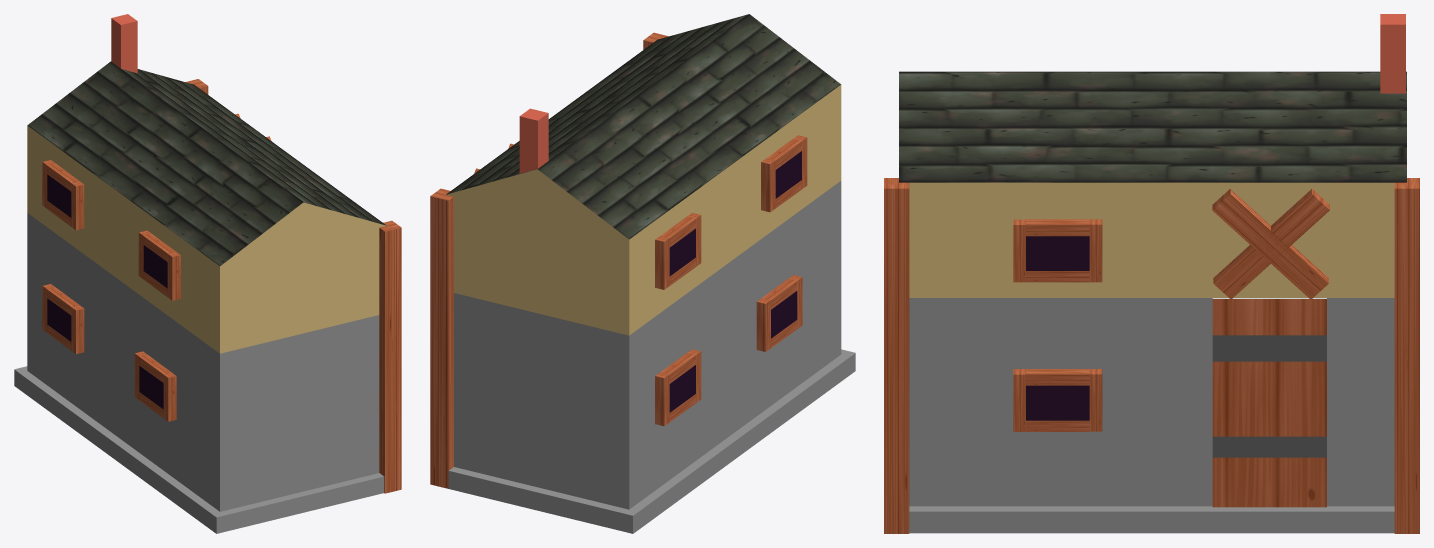
The model's file is inn5.glb.
The picture shows the model from 3 angles, left to right: view 1: azimuth 30°, elevation 25°; view 2: azimuth 150°, elevation 25°; view 3: azimuth 270°, elevation 25°; orthographic projection. The views are drawn at different scales.
Parts seen in each view (by area): view 1: upper, lowerfloor, beam, window.005, window, window.002, window.004, chimney; view 2: upper, lowerfloor, beam.001, window, window.005, window.002, window.004, chimney; view 3: upper, lowerfloor, door, beam, beam.001, window.003, window.001, chimney.001, chimney.002, chimney.
Boxes of the visible parts, box(x1,y1,x2,y2) form: upper: box(27, 61, 386, 353); lowerfloor: box(14, 213, 384, 533); beam: box(379, 220, 401, 493); window.005: box(138, 230, 180, 300); window: box(42, 284, 84, 354); window.002: box(42, 160, 84, 230); window.004: box(134, 351, 176, 421); chimney: box(111, 14, 137, 73); upper: box(446, 14, 841, 335); lowerfloor: box(448, 181, 855, 533); beam.001: box(430, 188, 453, 488); window: box(655, 349, 701, 426); window.005: box(761, 135, 807, 212); window.002: box(655, 213, 701, 289); window.004: box(756, 275, 802, 351); chimney: box(519, 108, 548, 173); upper: box(899, 71, 1406, 297); lowerfloor: box(909, 298, 1394, 533); door: box(1212, 298, 1326, 507); beam: box(884, 178, 909, 533); beam.001: box(1394, 178, 1419, 533); window.003: box(1013, 219, 1102, 282); window.001: box(1013, 369, 1102, 431); chimney.001: box(1212, 189, 1328, 299); chimney.002: box(1213, 189, 1329, 299); chimney: box(1380, 14, 1405, 93).
Bounding box in the file's own units: 2.21 × 4 × 4.22.
Materials: 7 (2 with a texture image).
